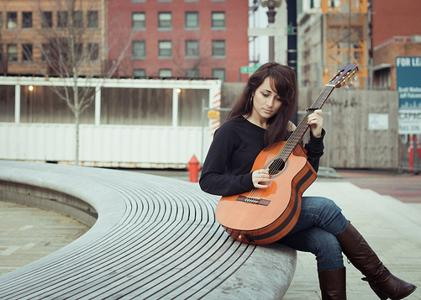person: (199, 62, 418, 299)
